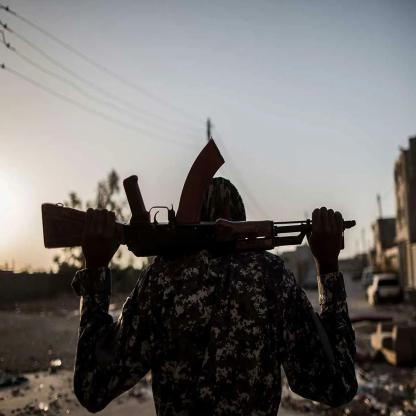rifle: (41, 136, 356, 259)
